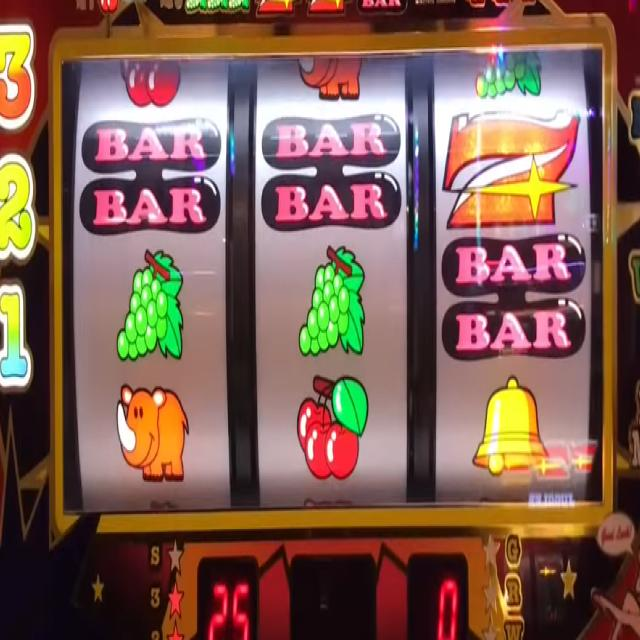bar: (440, 235, 586, 358), (78, 114, 222, 235), (260, 109, 402, 231), (356, 0, 410, 16)
bell: (472, 374, 548, 475)
cherry: (297, 372, 370, 482), (118, 55, 183, 109), (99, 0, 121, 16)
display: (60, 52, 603, 511)
elephant: (114, 379, 190, 486), (296, 54, 368, 104)
grape: (115, 246, 185, 366), (298, 242, 366, 361), (475, 54, 542, 104), (184, 0, 207, 15), (228, 0, 250, 14), (207, 0, 227, 12)
z: (442, 108, 579, 227), (302, 0, 347, 18), (254, 0, 297, 17)
